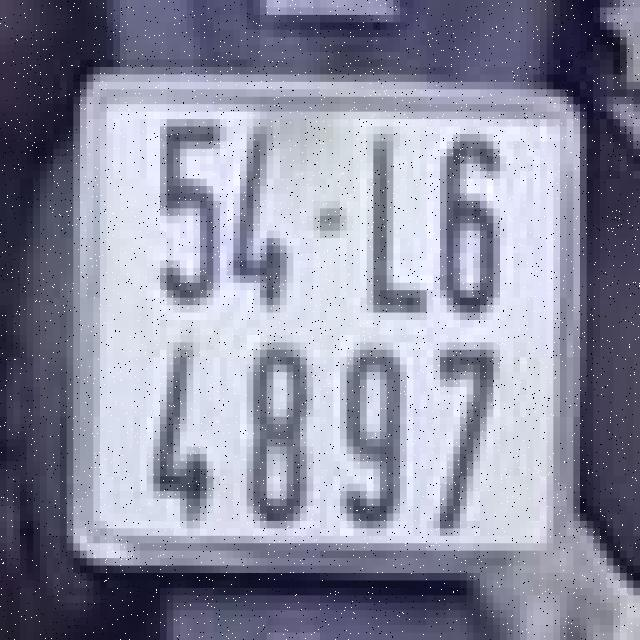4: (146, 331, 226, 540), (233, 104, 300, 328)
5: (146, 104, 226, 313)
6: (434, 126, 514, 328)
7: (430, 324, 503, 547)
8: (236, 338, 316, 540)
9: (327, 335, 420, 558)
L: (354, 115, 434, 324)
